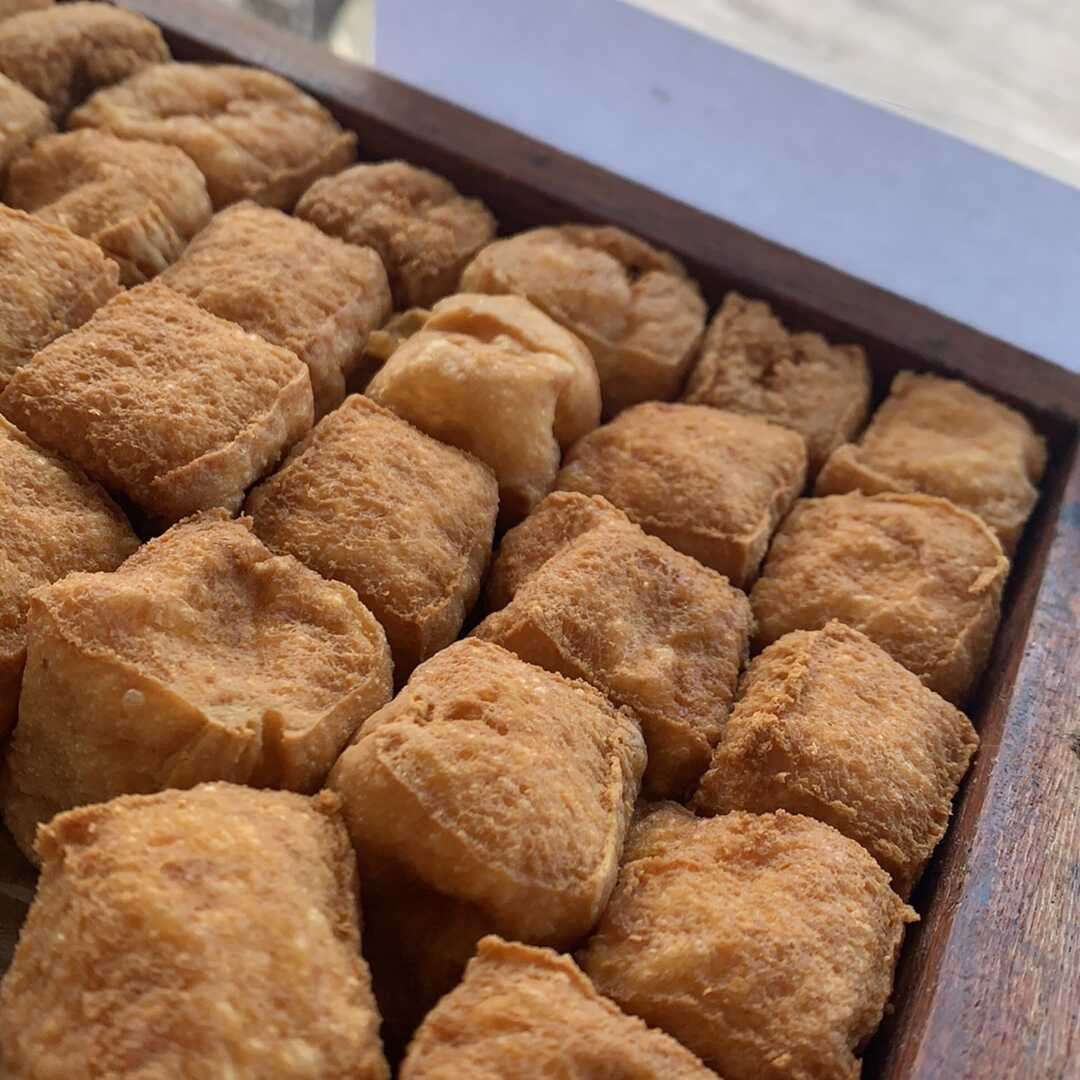kacang_legume: (60, 826, 322, 1063), (670, 863, 879, 1037), (440, 663, 559, 904), (143, 536, 268, 743), (198, 203, 366, 330), (815, 643, 929, 815), (598, 408, 770, 522), (555, 551, 714, 668), (20, 123, 172, 228), (110, 306, 215, 454), (485, 218, 637, 307), (330, 426, 424, 567), (443, 328, 544, 431), (898, 371, 983, 478)
